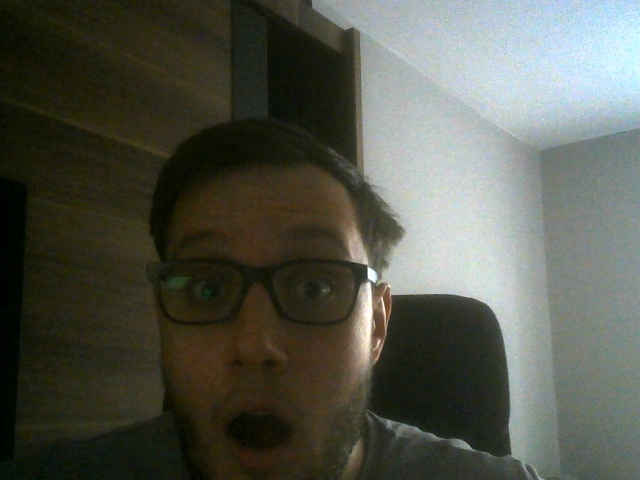surprised: (149, 125, 393, 480)
